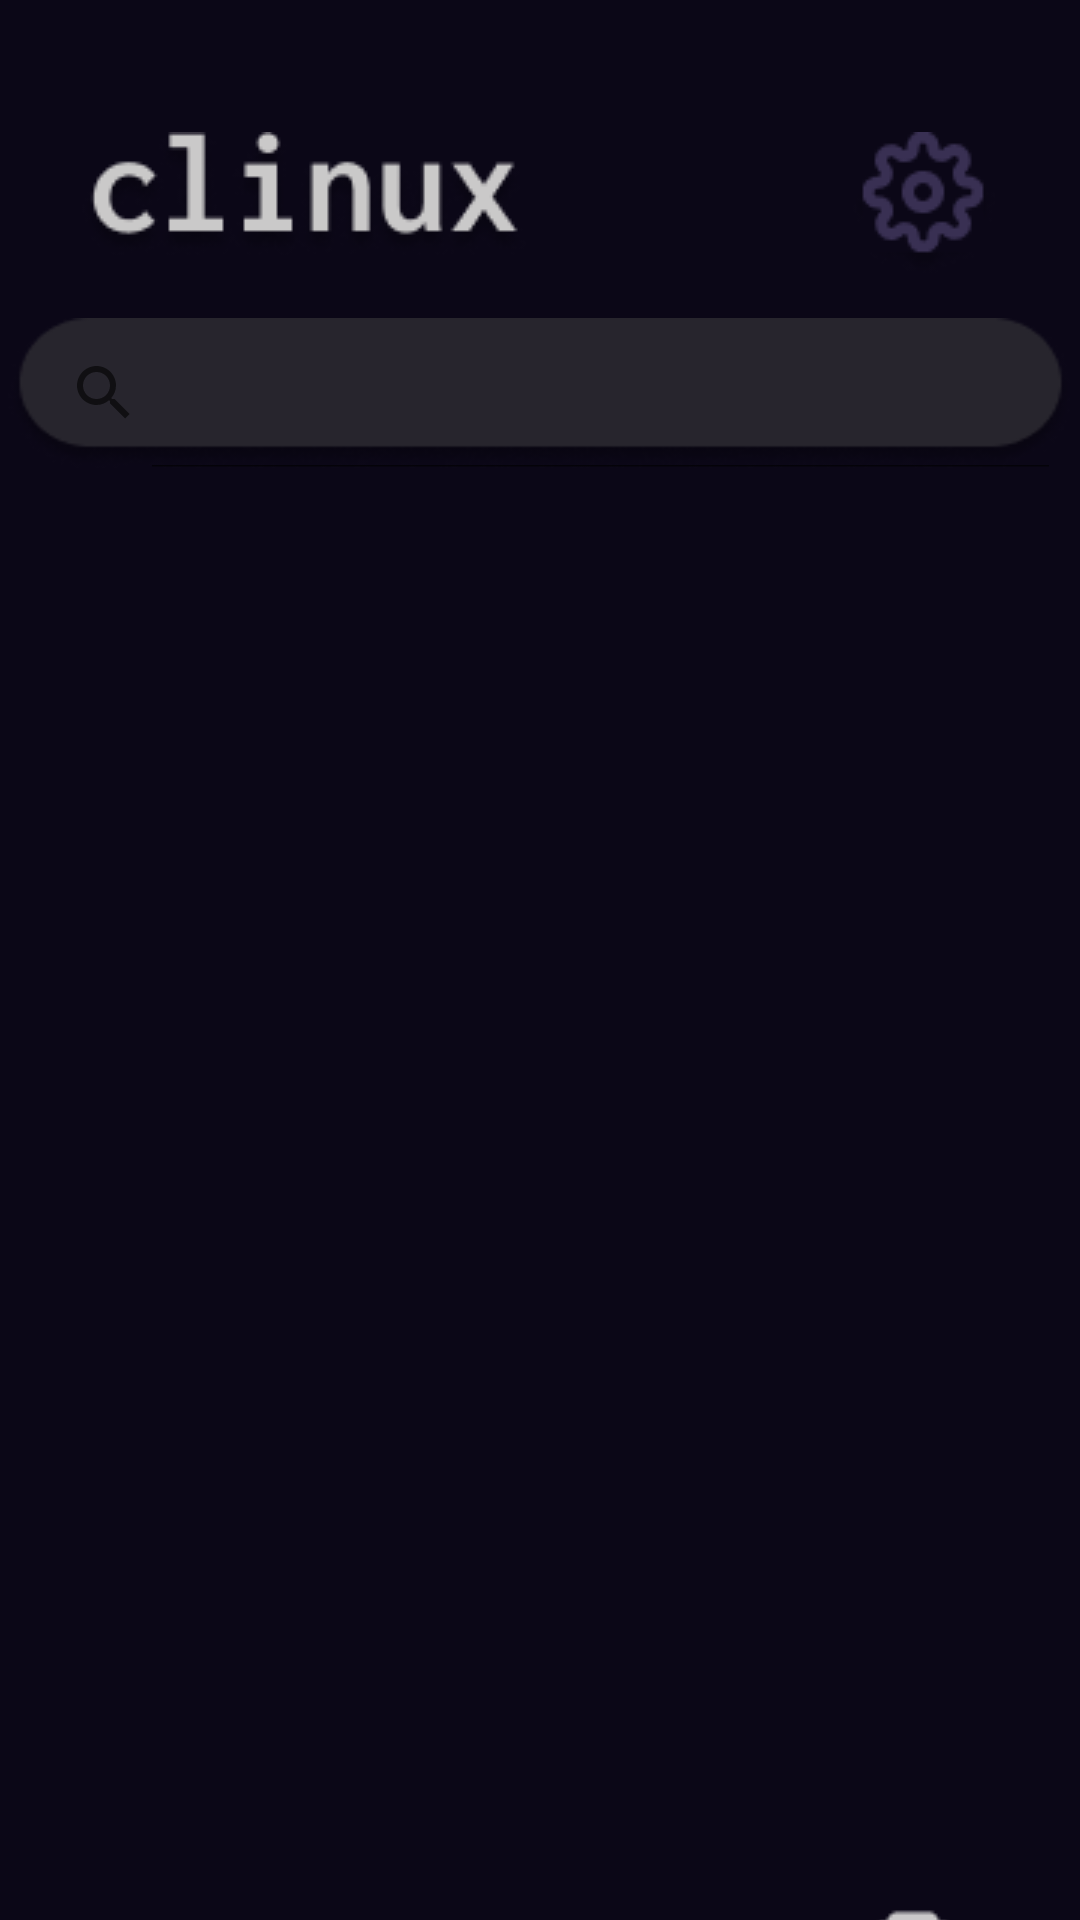

Named icons in this screenshot (1080px x 1920px) and their bounding boxes, bbox=(x1, y1, x2, y2):
settings: bbox=(863, 132, 983, 252)
